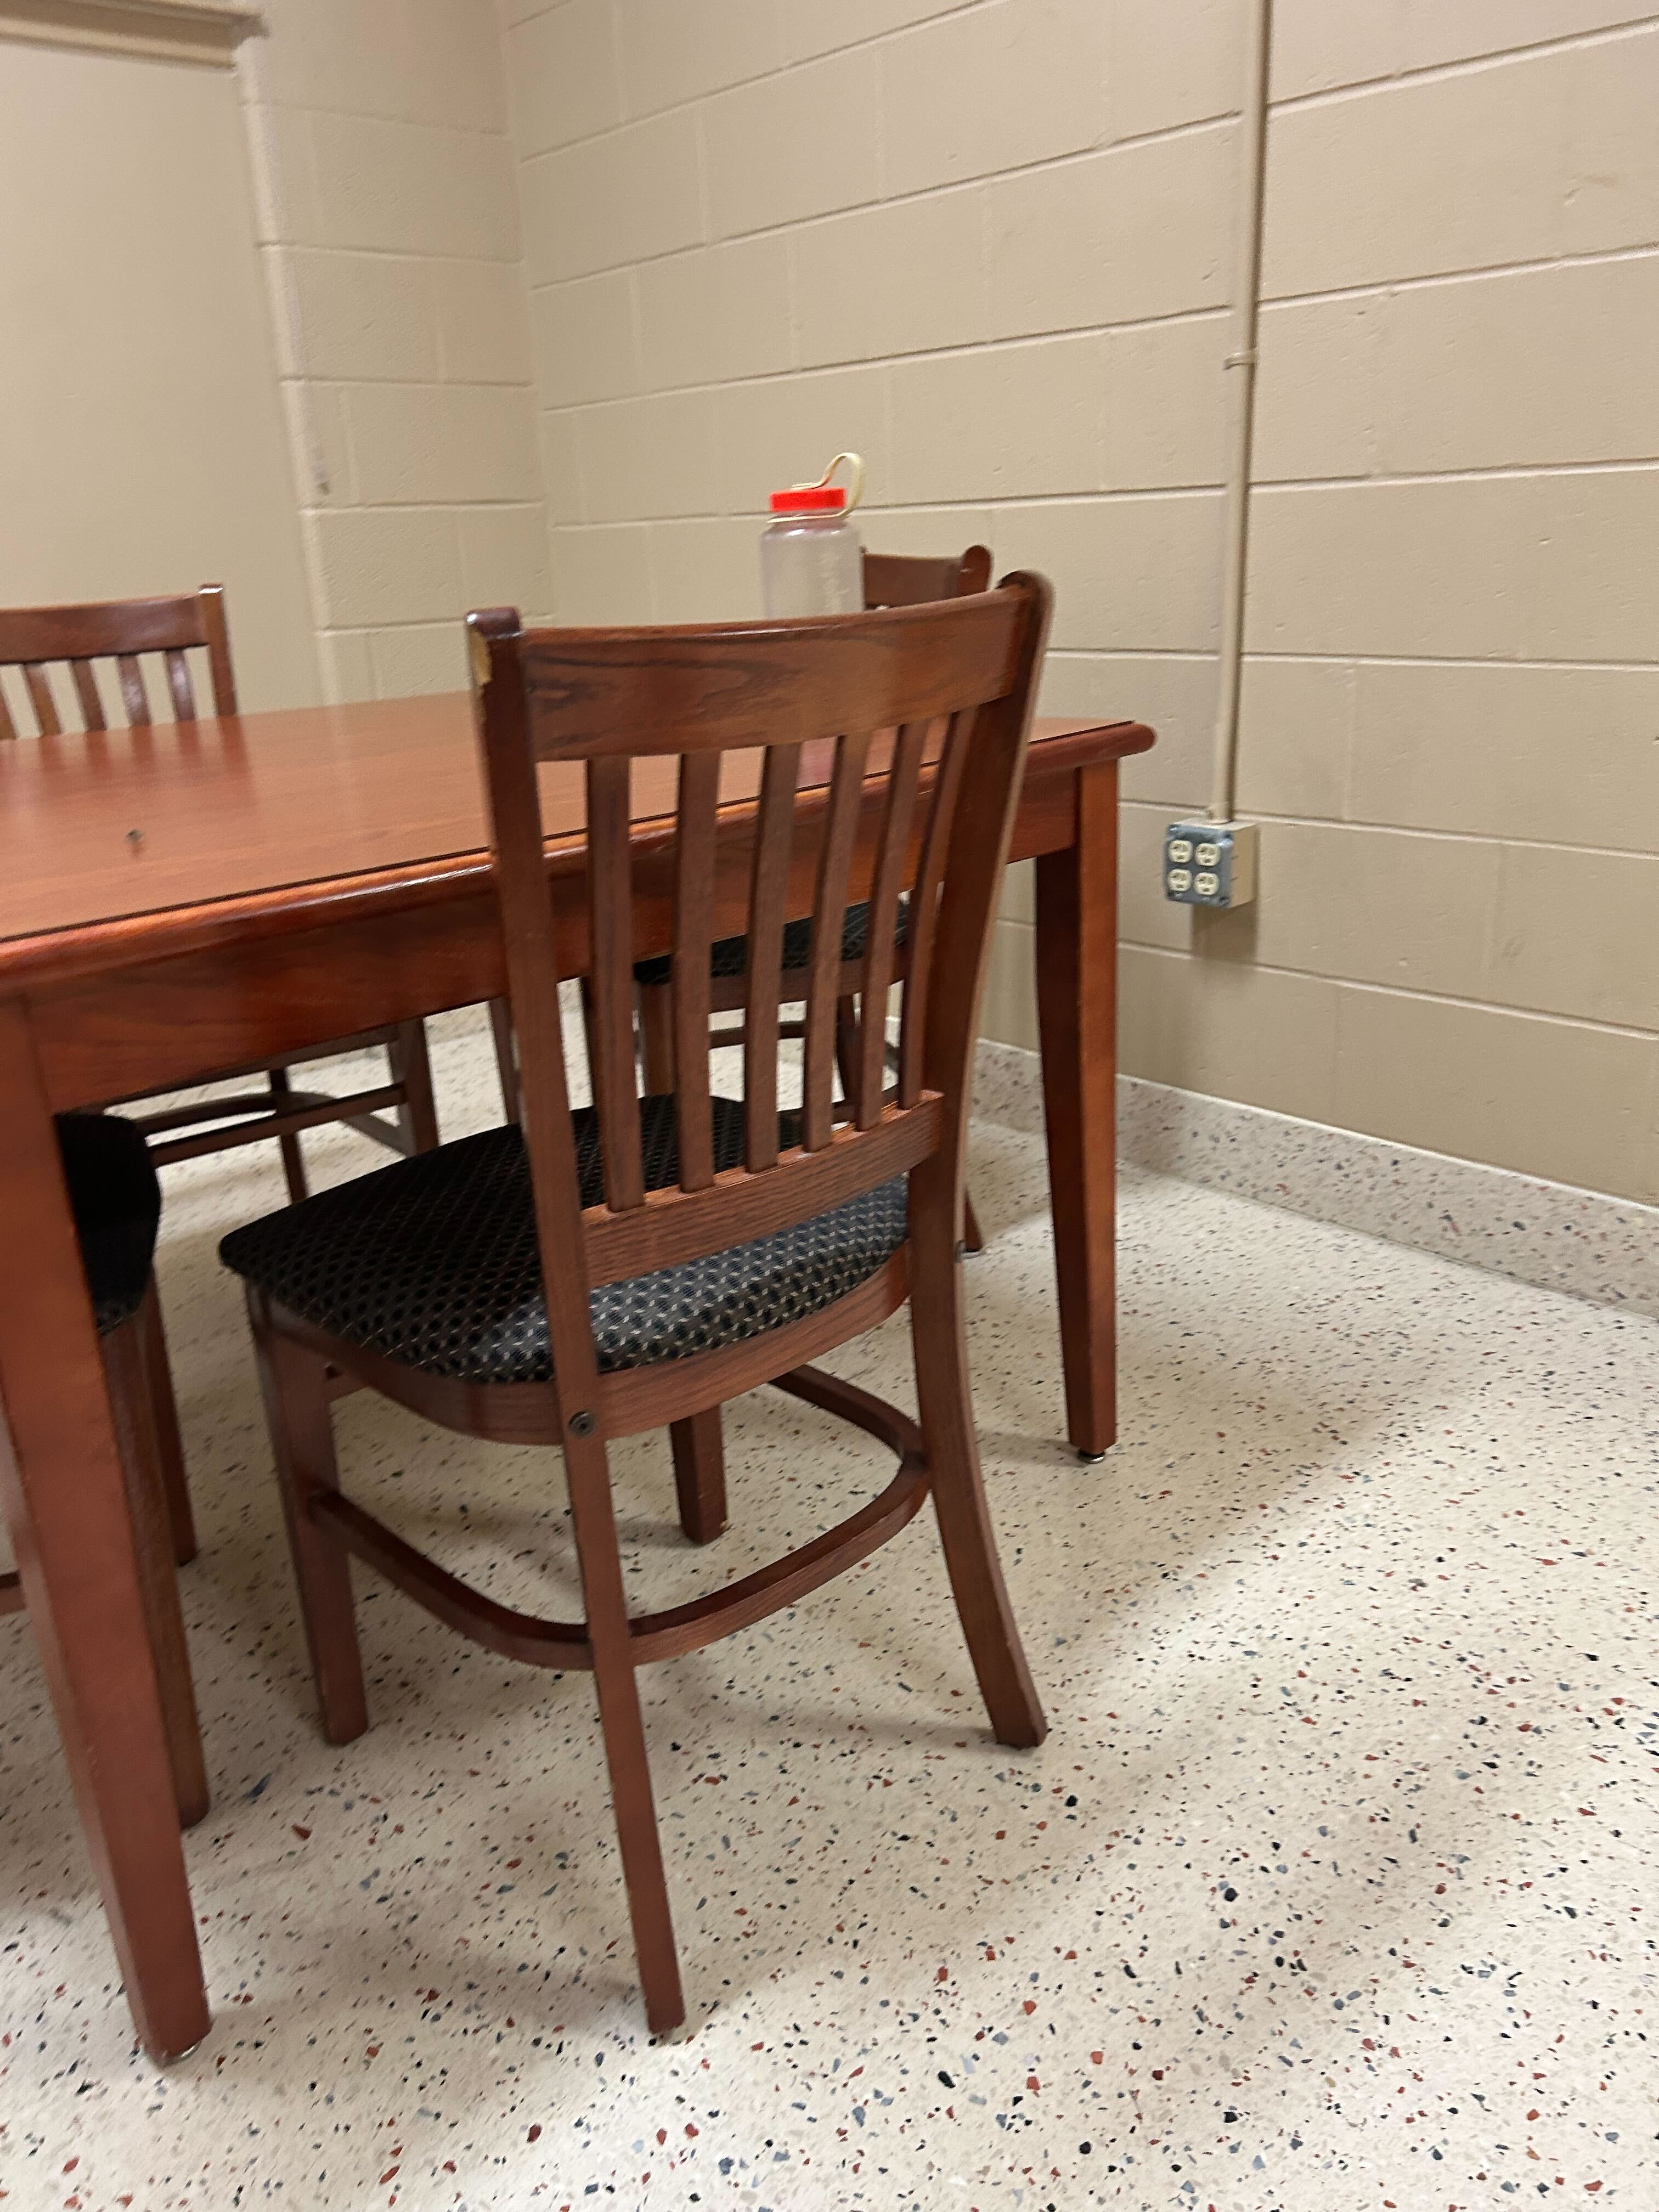bottle: (758, 445, 866, 777)
